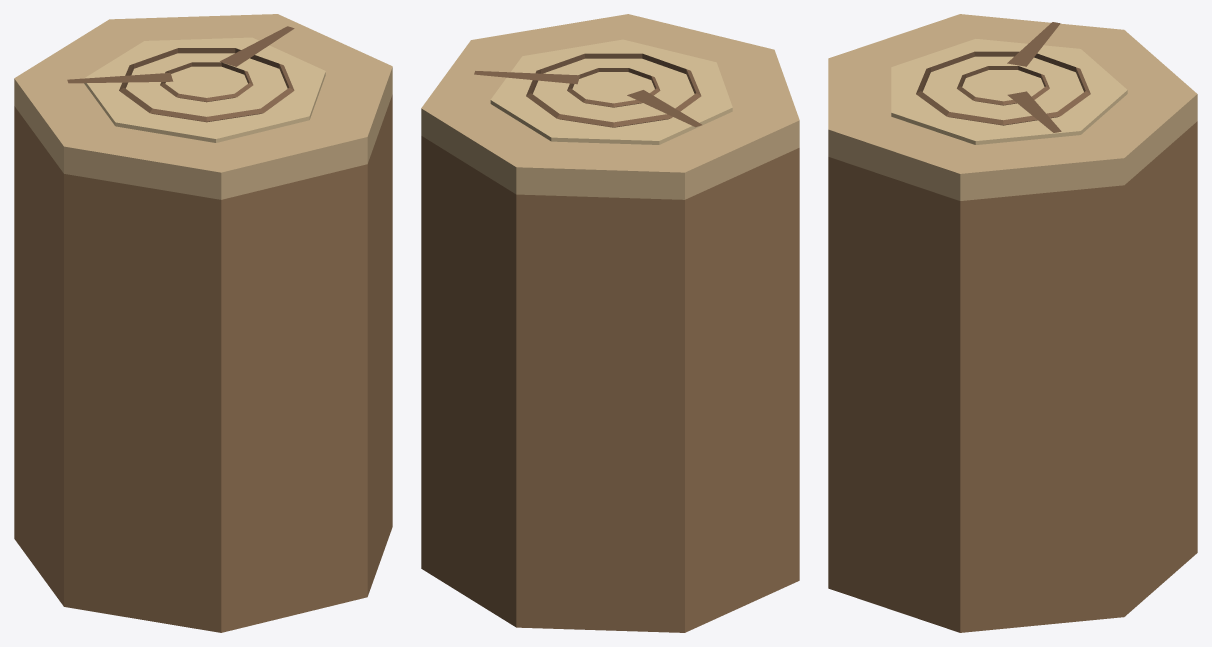
The model's file is conifer_stump_03.glb.
The picture shows the model from 3 angles, left to right: view 1: azimuth 30°, elevation 25°; view 2: azimuth 150°, elevation 25°; view 3: azimuth 270°, elevation 25°; orthographic projection.
Visible parts, largest first — view 1: conifer_stump_03_bark, conifer_stump_03_cut_cap, conifer_stump_03_inner_cut, conifer_stump_03_growth_ring_outer, conifer_stump_03_growth_ring_inner, conifer_stump_03_cut_crack_a, conifer_stump_03_cut_crack_b; view 2: conifer_stump_03_bark, conifer_stump_03_cut_cap, conifer_stump_03_inner_cut, conifer_stump_03_growth_ring_outer, conifer_stump_03_growth_ring_inner, conifer_stump_03_cut_crack_a, conifer_stump_03_cut_crack_b; view 3: conifer_stump_03_bark, conifer_stump_03_cut_cap, conifer_stump_03_inner_cut, conifer_stump_03_growth_ring_outer, conifer_stump_03_growth_ring_inner, conifer_stump_03_cut_crack_b, conifer_stump_03_cut_crack_a.
Boxes of the visible parts, x1,y1,x2,y2 form: conifer_stump_03_bark: (14, 94, 392, 632); conifer_stump_03_cut_cap: (14, 14, 392, 199); conifer_stump_03_inner_cut: (84, 37, 325, 142); conifer_stump_03_growth_ring_outer: (119, 48, 294, 122); conifer_stump_03_growth_ring_inner: (160, 62, 253, 102); conifer_stump_03_cut_crack_a: (220, 26, 294, 66); conifer_stump_03_cut_crack_b: (67, 73, 173, 83); conifer_stump_03_bark: (421, 136, 799, 632); conifer_stump_03_cut_cap: (421, 14, 799, 199); conifer_stump_03_inner_cut: (490, 39, 732, 144); conifer_stump_03_growth_ring_outer: (526, 53, 701, 127); conifer_stump_03_growth_ring_inner: (567, 68, 660, 107); conifer_stump_03_cut_crack_a: (474, 71, 579, 84); conifer_stump_03_cut_crack_b: (627, 90, 701, 127); conifer_stump_03_bark: (828, 121, 1197, 632); conifer_stump_03_cut_cap: (828, 14, 1197, 200); conifer_stump_03_inner_cut: (891, 39, 1127, 144); conifer_stump_03_growth_ring_outer: (916, 51, 1090, 125); conifer_stump_03_growth_ring_inner: (957, 66, 1049, 105); conifer_stump_03_cut_crack_b: (1007, 22, 1060, 66); conifer_stump_03_cut_crack_a: (1007, 91, 1061, 132).
Bounding box in the file's own units: 0.429 × 0.595 × 0.4182.
